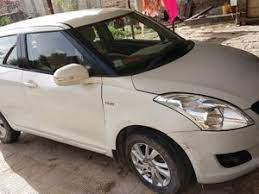Hatchback: (0, 6, 259, 192)
